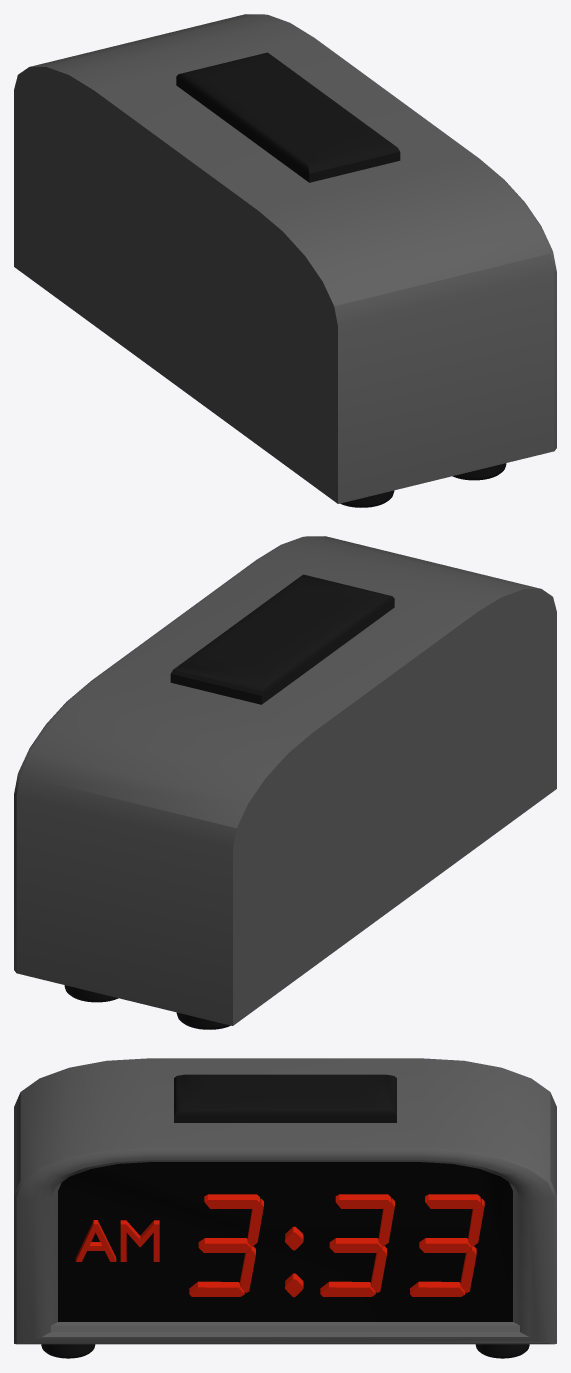
Rendered from alarmclock_v1.fbx.
The picture shows the model from 3 angles, top to bottom: view 1: azimuth 30°, elevation 25°; view 2: azimuth 150°, elevation 25°; view 3: azimuth 270°, elevation 25°; orthographic projection. The views are drawn at different scales.
Parts seen in each view (by area): view 1: Cube, Cube.001; view 2: Cube, Cube.001; view 3: Cube, Cube.001, Text.001, Text, Cylinder, Cylinder.001.
Part boxes in pixels (x1,y1,x2,y2): Cube: [14, 14, 556, 503]; Cube.001: [176, 52, 400, 182]; Cube: [14, 536, 556, 1025]; Cube.001: [170, 574, 394, 704]; Cube: [14, 1058, 556, 1344]; Cube.001: [174, 1074, 396, 1122]; Text.001: [189, 1194, 484, 1297]; Text: [75, 1220, 159, 1261]; Cylinder: [475, 1344, 529, 1358]; Cylinder.001: [41, 1344, 95, 1358].
Size of the model in its own units: 40 by 47.95 by 100.
